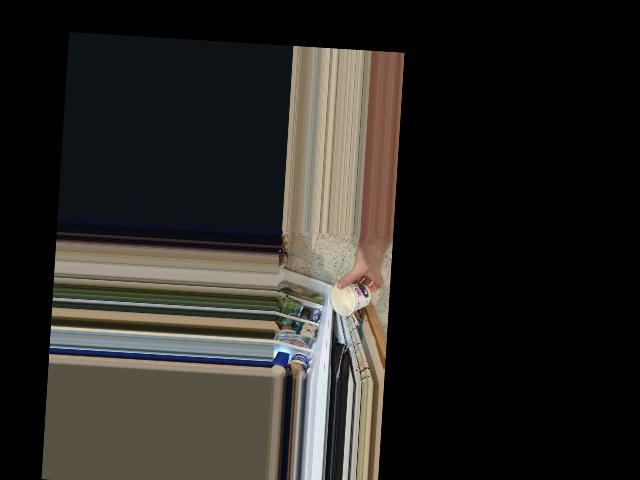cotage: (333, 280, 372, 315)
